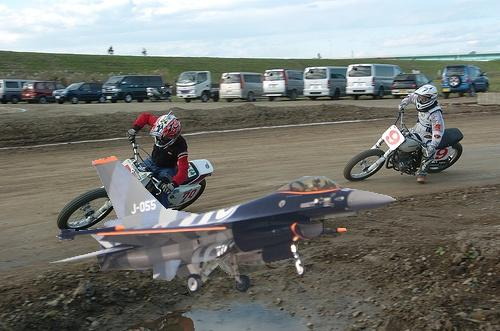tampered: (50, 157, 397, 292)
